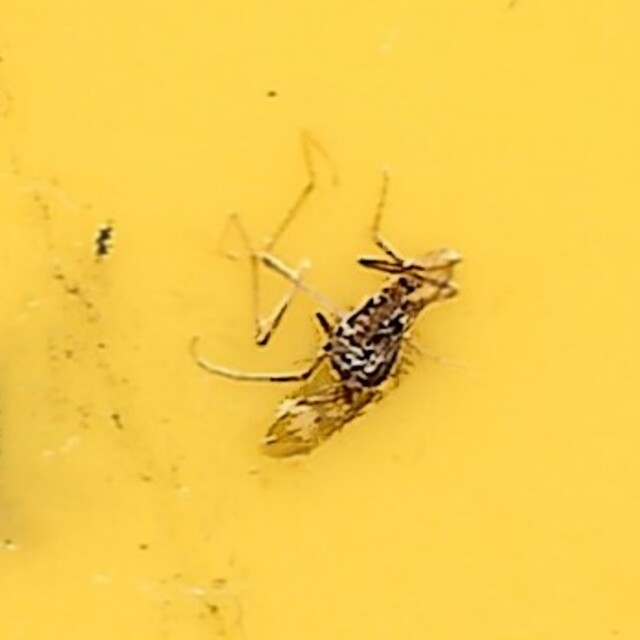Nematocera: (184, 176, 456, 464)
